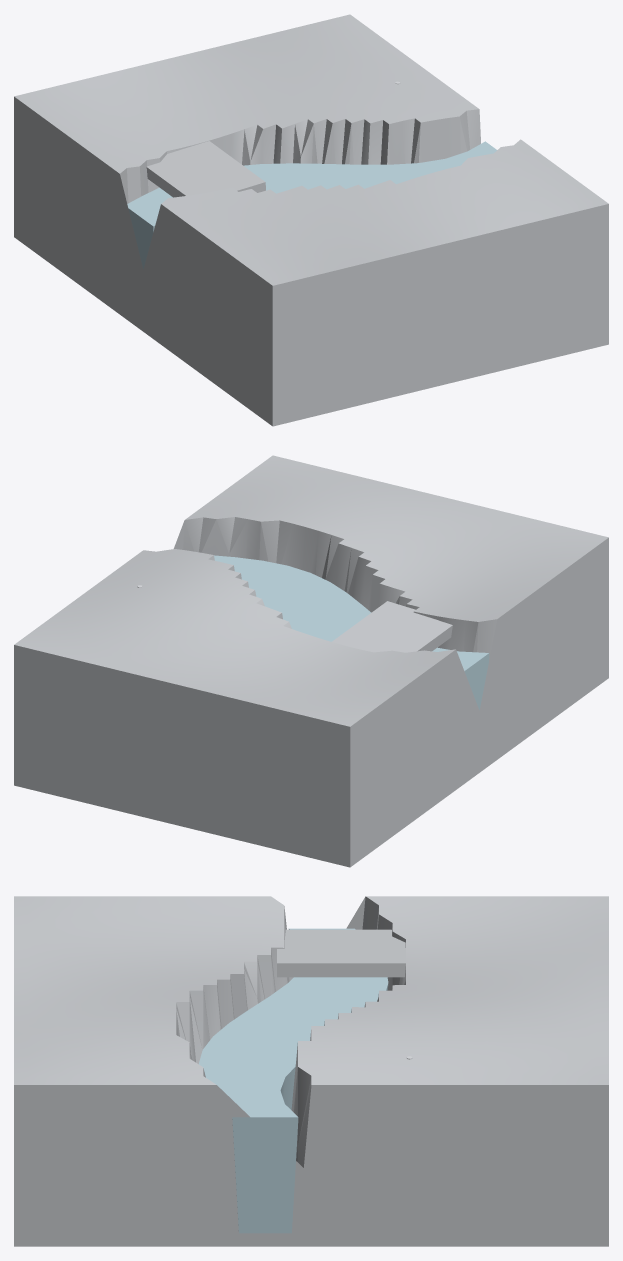
File: mountaineering-and-summit-expedition-crevasse-module-879e5833__18826.glb
3 views of the same model, one above another, from view 1: azimuth 30°, elevation 25°; view 2: azimuth 150°, elevation 25°; view 3: azimuth 270°, elevation 25° (orthographic). The views are drawn at different scales.
Parts seen in each view (by area): view 1: crevasse-module; view 2: crevasse-module; view 3: crevasse-module.
Boxes of the visible parts, x1=… form: crevasse-module: x1=14, y1=14, x2=608, y2=426; crevasse-module: x1=14, y1=455, x2=608, y2=867; crevasse-module: x1=14, y1=896, x2=608, y2=1246.
Bounding box in the file's own units: 3 × 1.26 × 4.
